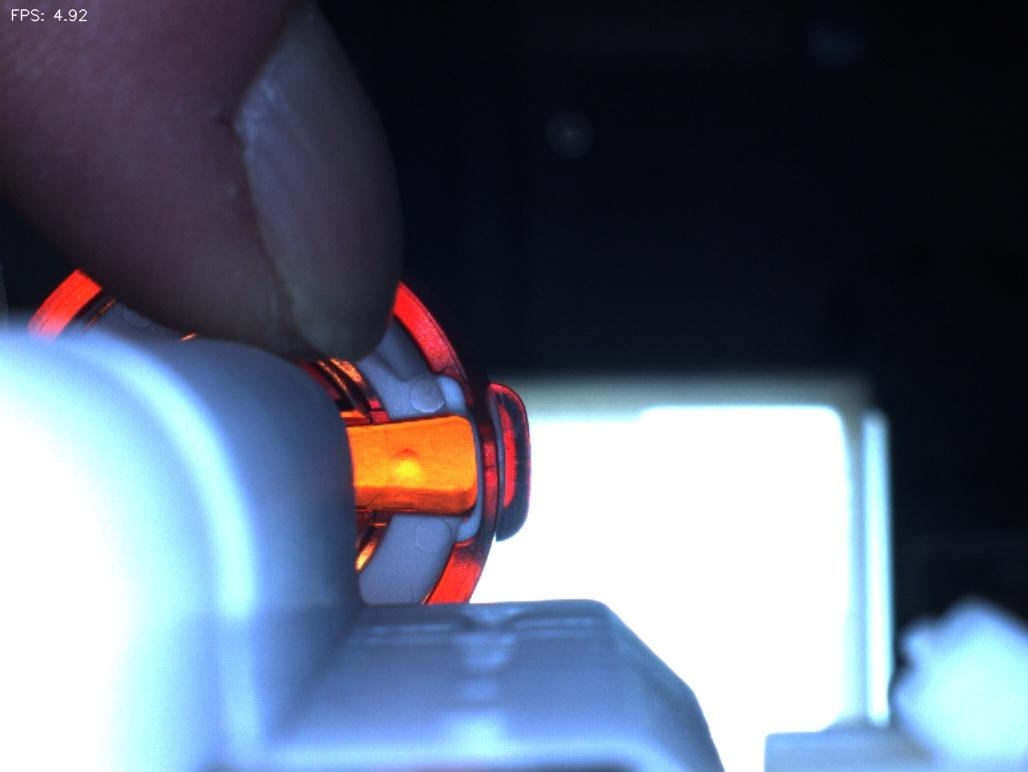Retassure: (365, 429, 435, 506)
